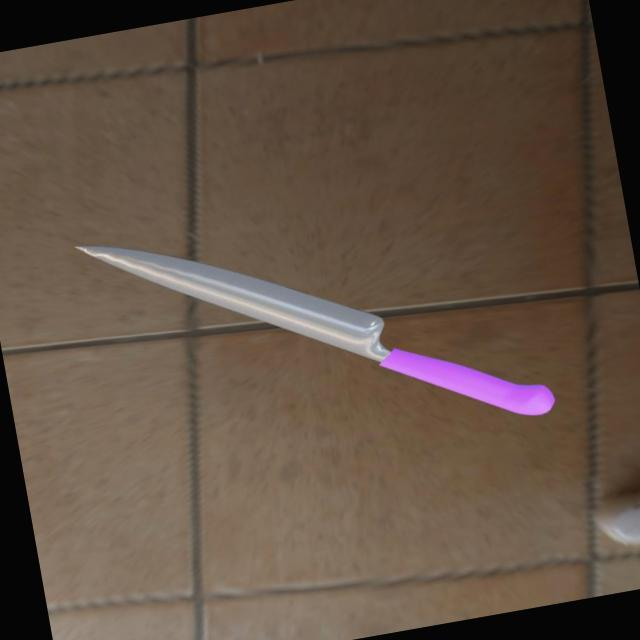knife: (376, 322, 556, 442)
